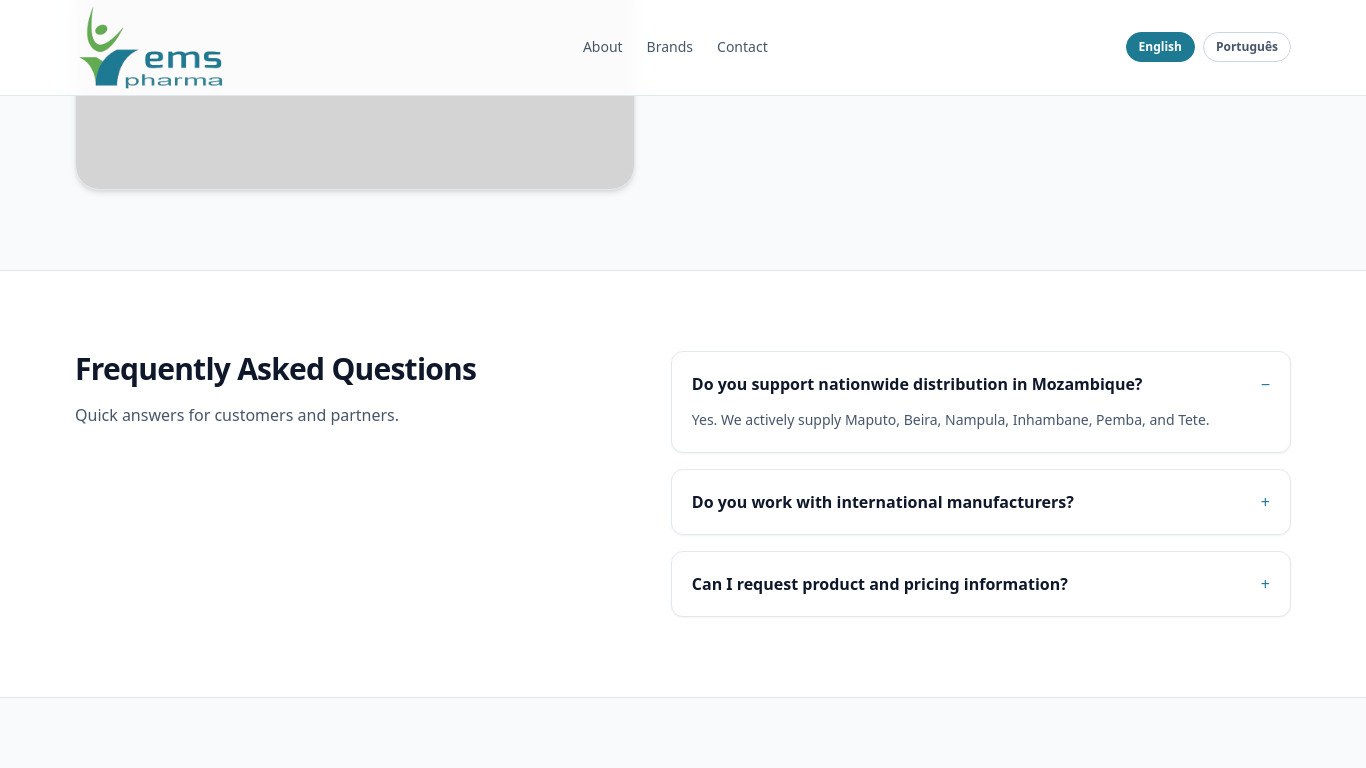
Test case: Home page › toggles FAQ items
(page scrolled)
Expected: the text "Yes. We actively supply Maputo, Beira, Nampula, Inhambane, Pemba, and Tete." is shown, left=692, top=408, right=1270, bottom=432
Click the button "Do you support nationwide distribution in Mozambique? −".
click(981, 384)  # box left=692, top=372, right=1270, bottom=396
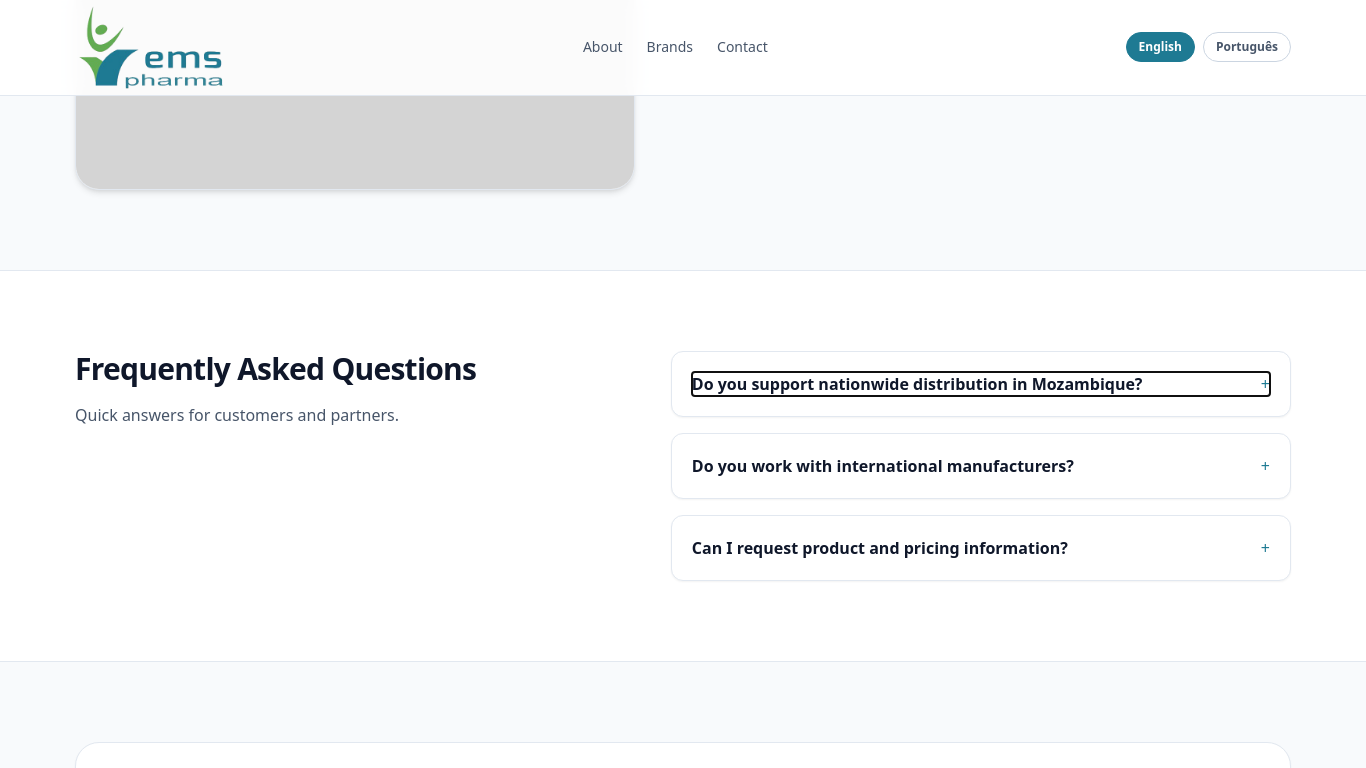
Now the text "Yes. We actively supply Maputo, Beira, Nampula, Inhambane, Pemba, and Tete." is gone
